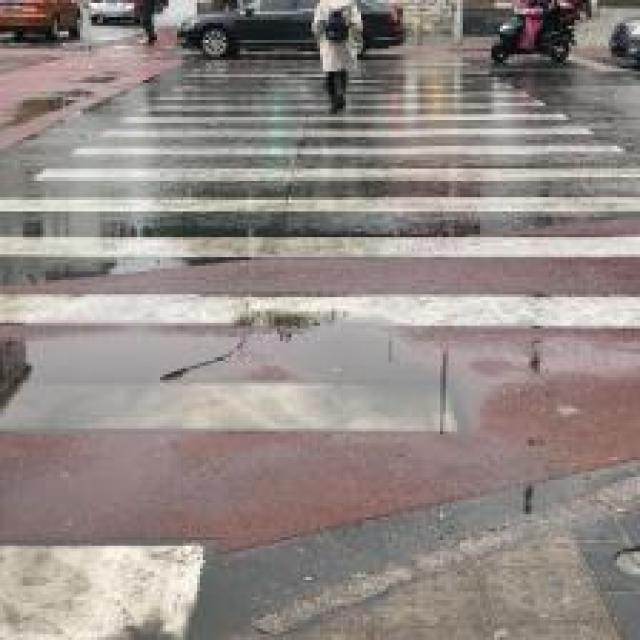walk-crossing: (172, 49, 617, 452)
